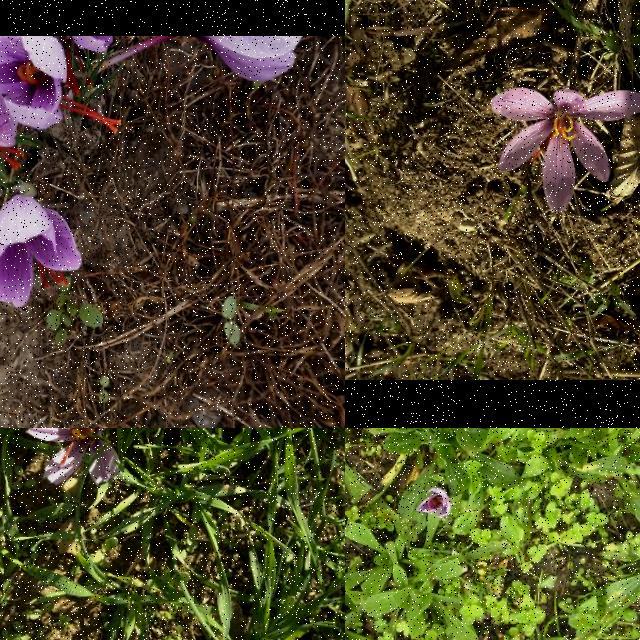flower: (490, 87, 640, 214), (0, 36, 120, 133), (0, 194, 82, 308), (25, 428, 122, 487), (418, 489, 450, 517)
overlap: (0, 36, 302, 189)
